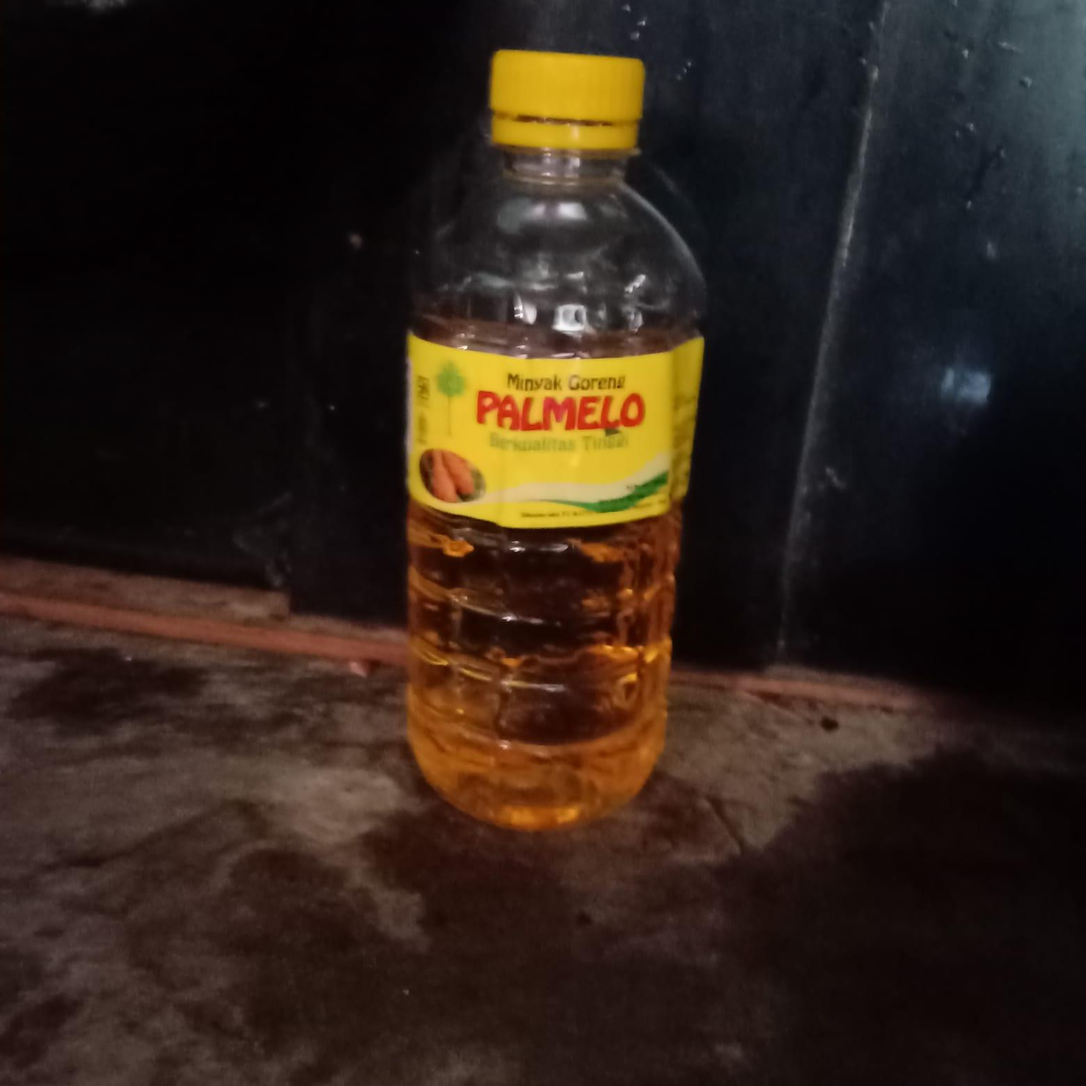Plastik: (398, 48, 705, 830)
